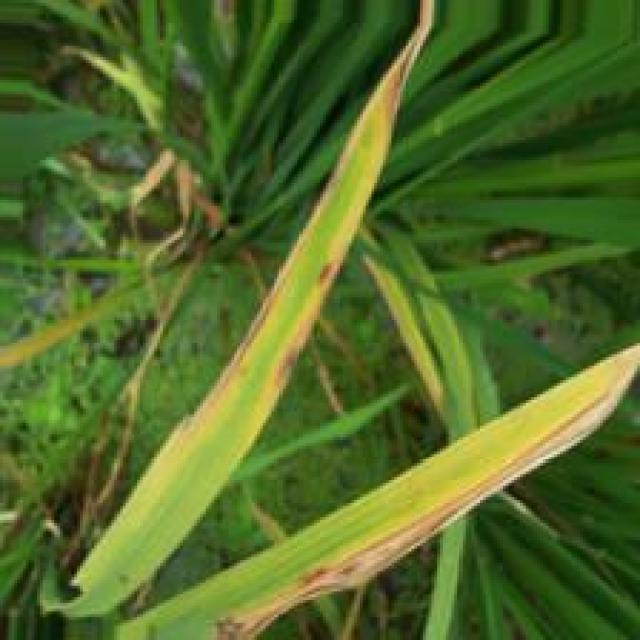Leaf_Blast: (216, 352, 640, 640), (178, 11, 415, 440), (268, 21, 435, 393)
